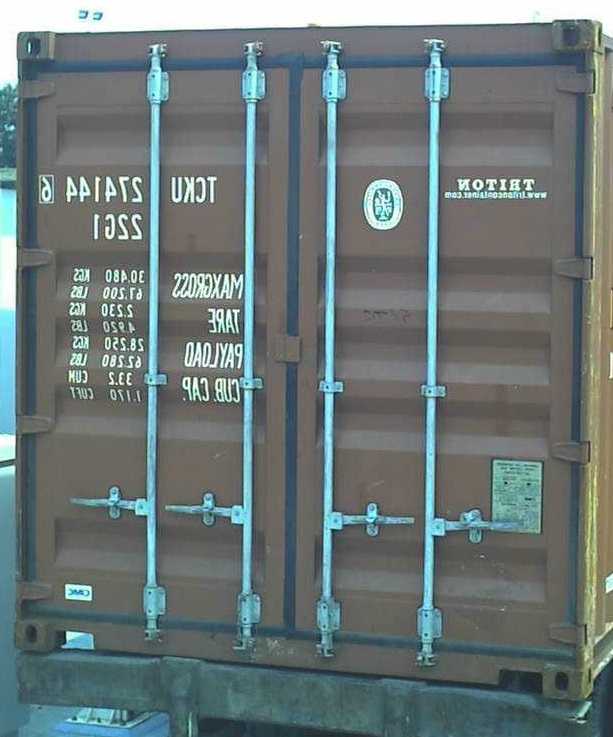container_door: (16, 7, 587, 707)
